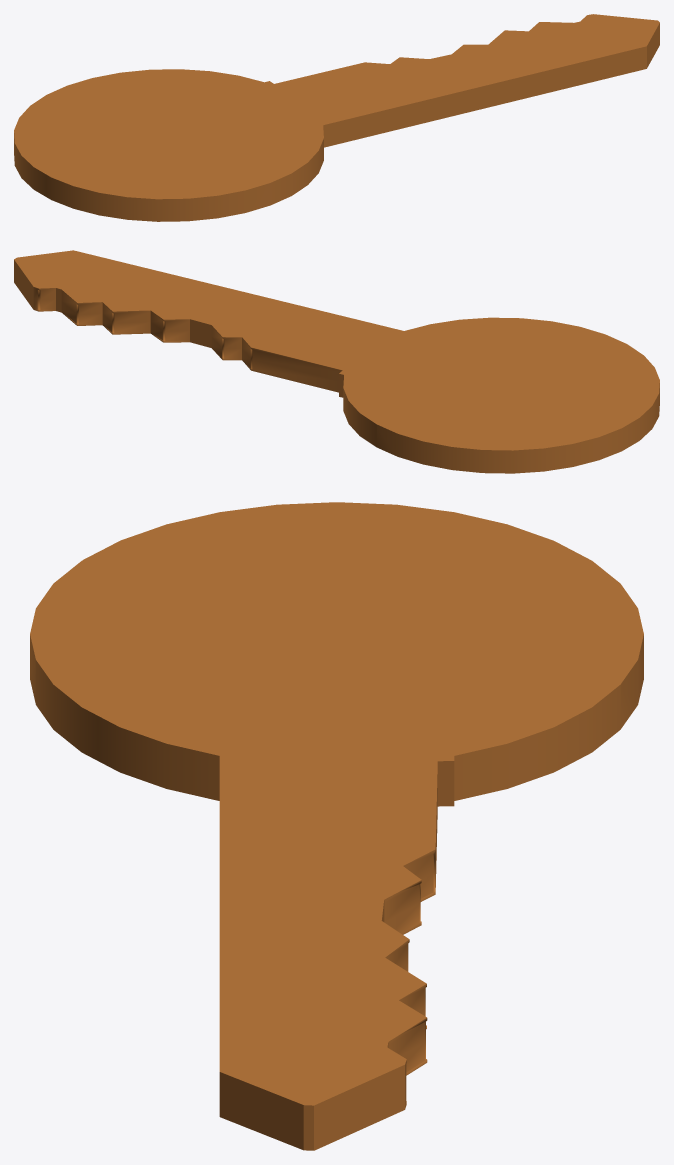
Rendered from key.fbx.
3 views of the same model, one above another, from view 1: azimuth 30°, elevation 25°; view 2: azimuth 150°, elevation 25°; view 3: azimuth 270°, elevation 25° (orthographic). The views are drawn at different scales.
Parts seen in each view (by area): view 1: Cylinder; view 2: Cylinder; view 3: Cylinder.
Part boxes in pixels (x1,y1,x2,y2): Cylinder: [14, 14, 659, 221]; Cylinder: [14, 250, 659, 473]; Cylinder: [30, 502, 643, 1150].
Size of the model in its own units: 143 by 4.99 by 61.35.
